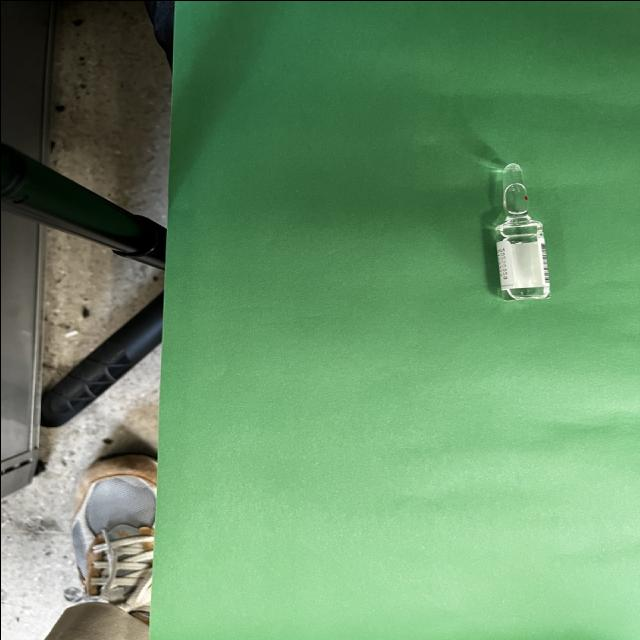Ampoules: (491, 162, 549, 300)
